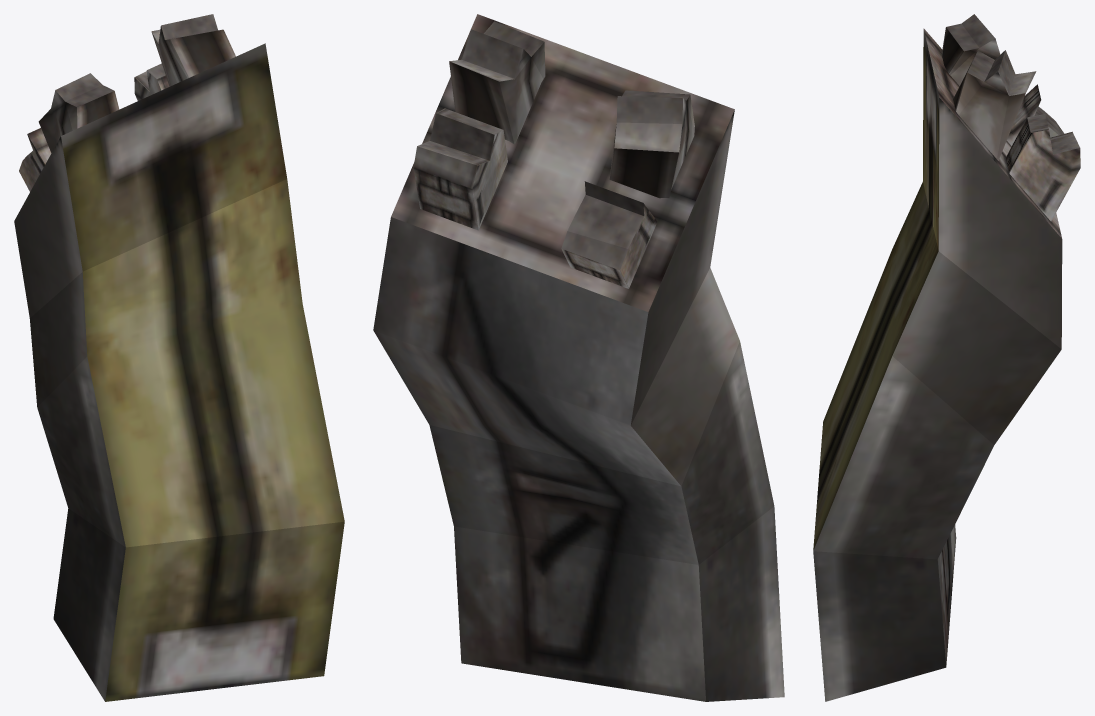
File: theta_broken_support01.dae
3 views of the same model, side by side, from view 1: azimuth 30°, elevation 25°; view 2: azimuth 150°, elevation 25°; view 3: azimuth 270°, elevation 25° (orthographic). The views are drawn at different scales.
Parts seen in each view (by area): view 1: polySurface10; view 2: polySurface10; view 3: polySurface10.
Boxes of the visible parts, x1,y1,x2,y2 form: polySurface10: (14,14,344,701); polySurface10: (373,14,784,701); polySurface10: (813,14,1080,701).
Bounding box in the file's own units: 0.252 × 0.6053 × 0.2377.
